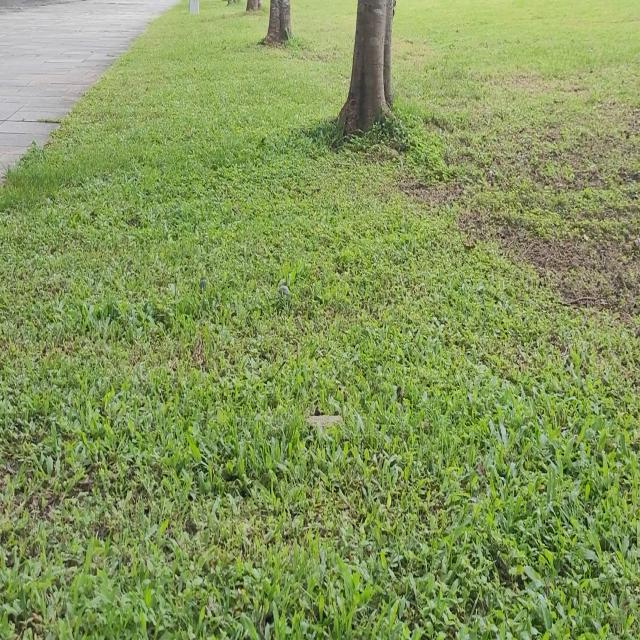cement: (0, 0, 177, 182)
grass: (0, 0, 640, 639)
